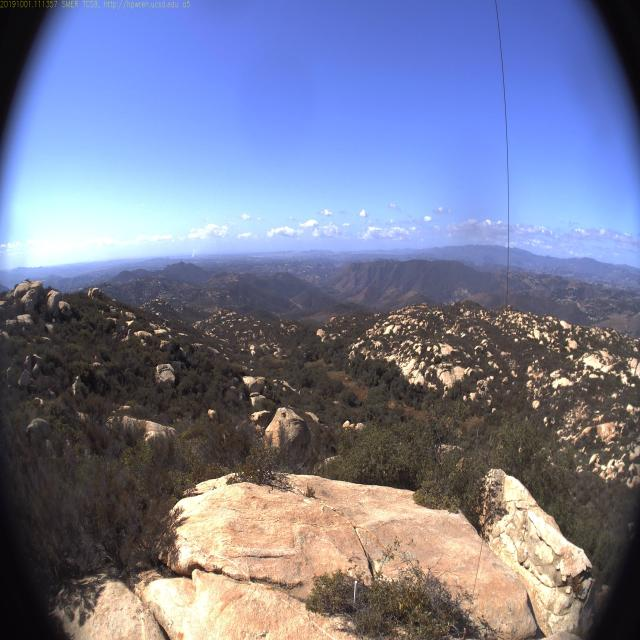smoke: (184, 241, 199, 261)
